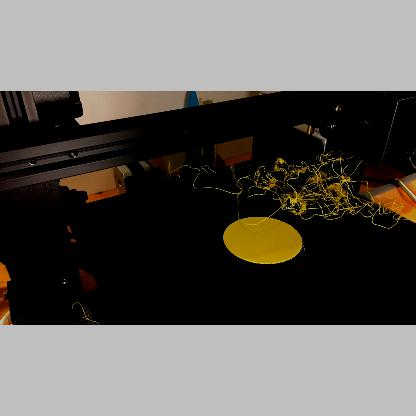fail: (246, 152, 402, 218)
